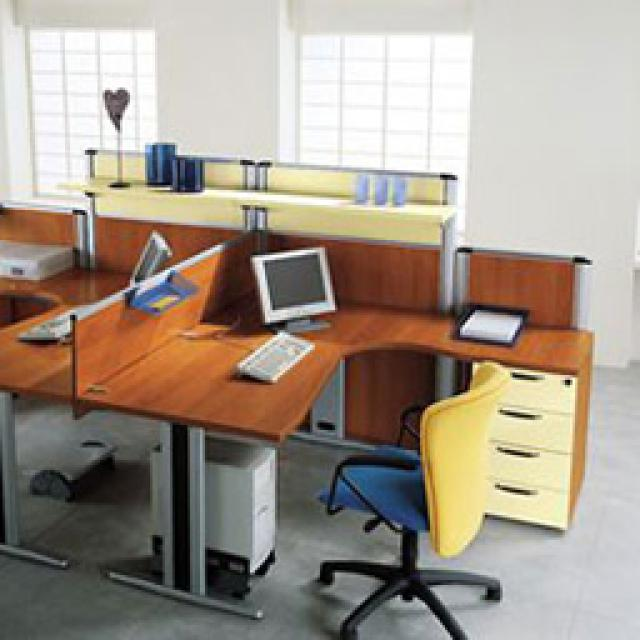2001: (295, 30, 468, 170), (28, 22, 152, 190)
books crop: (138, 138, 178, 180)
briefcase: (0, 238, 75, 275)
chair -occluded-: (312, 360, 508, 635)
computer crop: (145, 428, 272, 580)
desk calendar: (78, 282, 592, 530), (0, 250, 165, 395)
file cabinet: (450, 300, 528, 345)
footrest: (22, 435, 118, 500)
keyboard crop: (235, 325, 315, 382), (18, 300, 100, 338)
monitor crop: (248, 242, 335, 330), (122, 230, 165, 282)
shelf crop: (48, 145, 460, 242), (130, 268, 195, 320)
statue: (100, 85, 130, 185)
vase -X: (388, 172, 405, 205), (350, 170, 365, 200), (370, 172, 385, 200)
